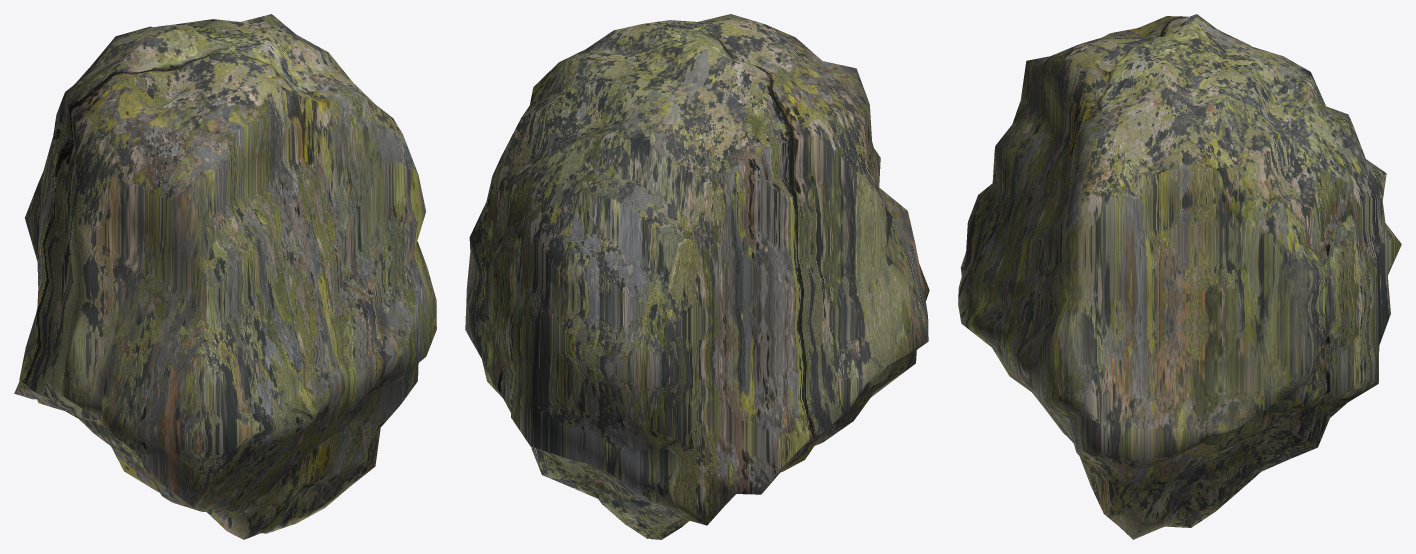
File: boulder_c_lod0.gltf
3 views of the same model, side by side, from view 1: azimuth 30°, elevation 25°; view 2: azimuth 150°, elevation 25°; view 3: azimuth 270°, elevation 25° (orthographic). The views are drawn at different scales.
Visible parts, largest first — view 1: boulder_c_LOD0; view 2: boulder_c_LOD0; view 3: boulder_c_LOD0.
Boxes of the visible parts, <box> form: boulder_c_LOD0: <box>14,14,436,539</box>; boulder_c_LOD0: <box>465,14,929,539</box>; boulder_c_LOD0: <box>958,14,1401,539</box>.
Bounding box in the file's own units: 1.69 × 2.25 × 1.89.
1 material, 1 textured.
